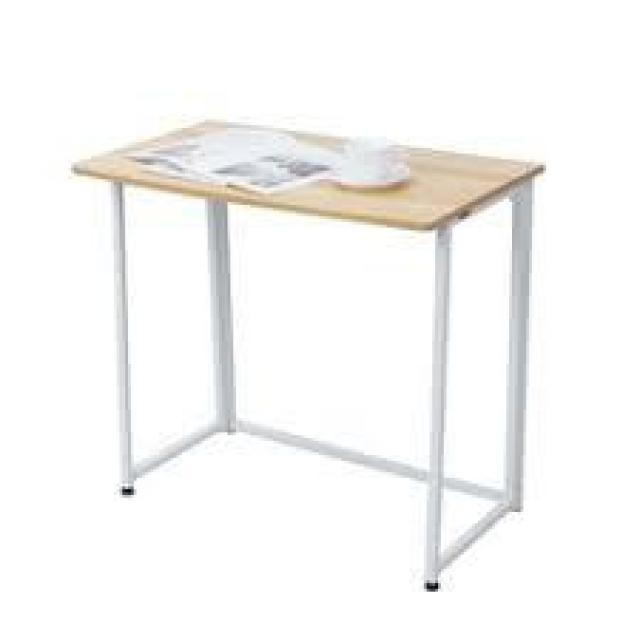table: (57, 82, 557, 586)
